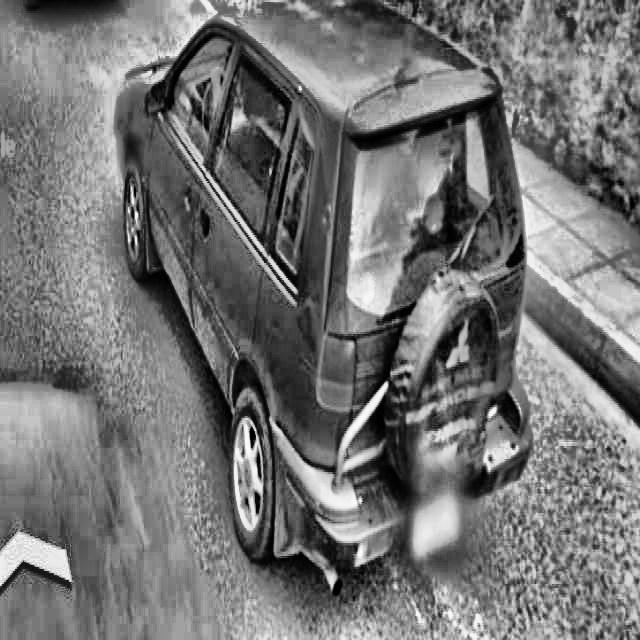carro: (100, 4, 532, 574)
